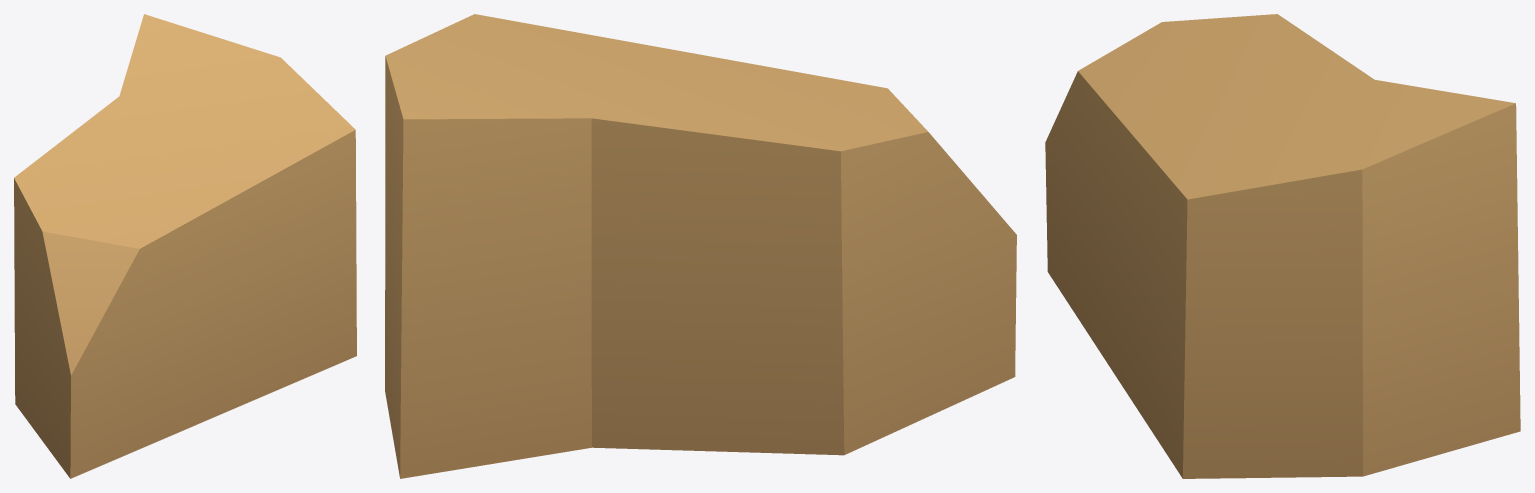
File: desert stone small 9.fbx
3 renders of one model, left to right at view 1: azimuth 30°, elevation 25°; view 2: azimuth 150°, elevation 25°; view 3: azimuth 270°, elevation 25°, orthographic. The views are drawn at different scales.
Visible parts, largest first — view 1: desert stone small 9; view 2: desert stone small 9; view 3: desert stone small 9.
Boxes of the visible parts, bbox=[...] form: desert stone small 9: bbox=[14, 14, 356, 478]; desert stone small 9: bbox=[385, 14, 1016, 478]; desert stone small 9: bbox=[1045, 14, 1520, 478].
Bounding box in the file's own units: 108 × 79.72 × 105.
